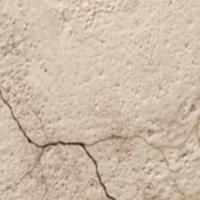crack: (0, 92, 125, 199)
